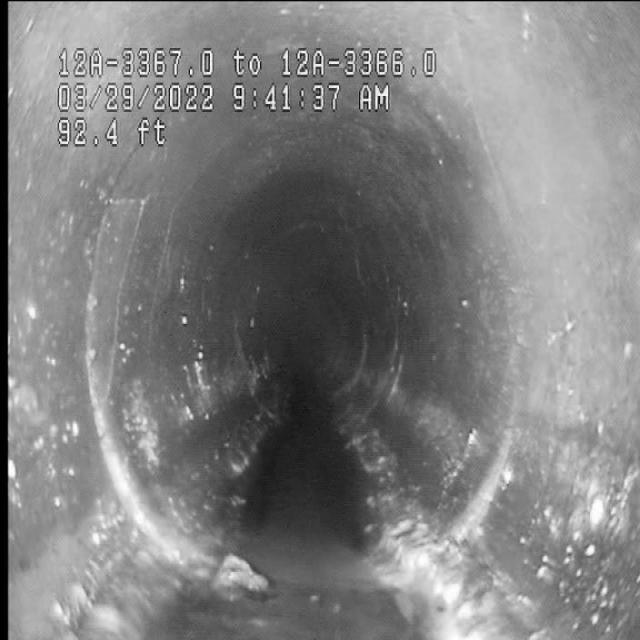Crack: (106, 167, 156, 396)
